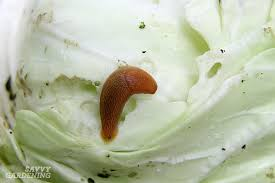slug: (100, 64, 156, 141)
